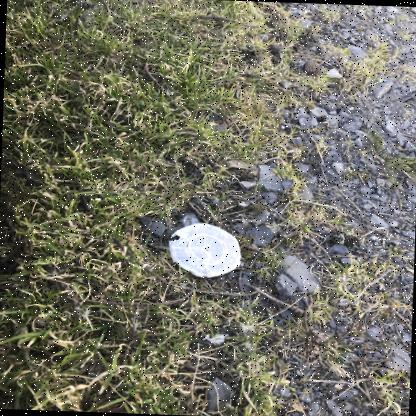Plastic lid: (169, 223, 241, 277)
Unlabeled litter: (204, 334, 229, 343)
